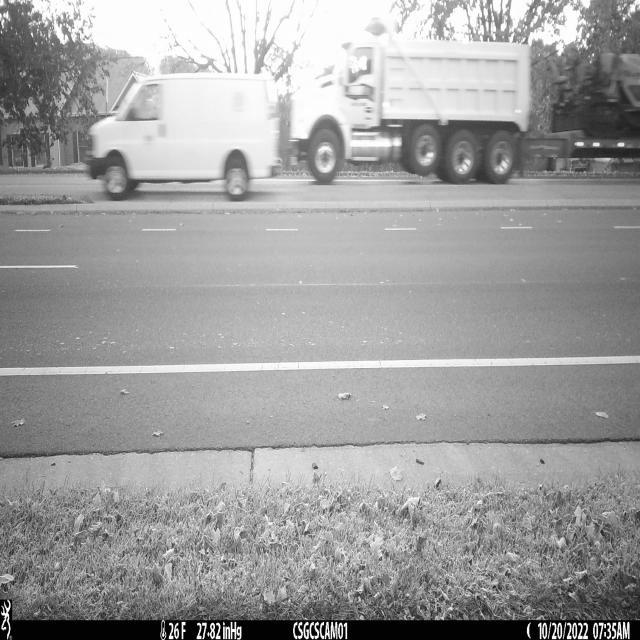Box Truck: (289, 33, 531, 185)
Van: (83, 73, 281, 201)
